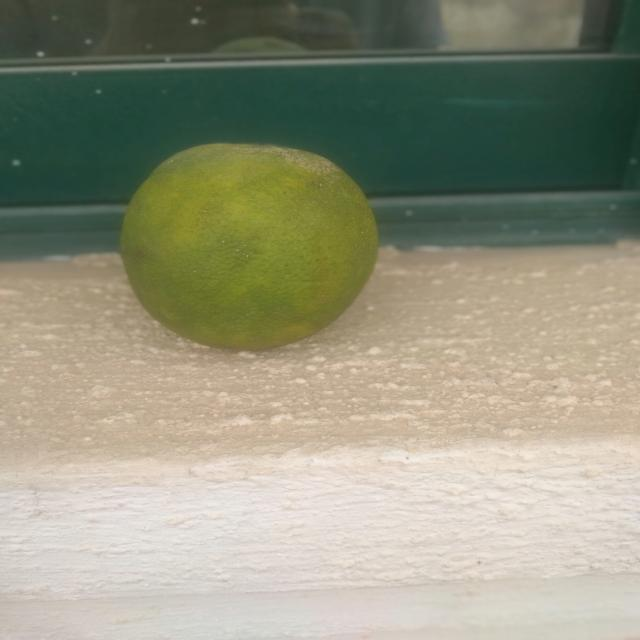Ripe orange: (100, 131, 406, 363)
